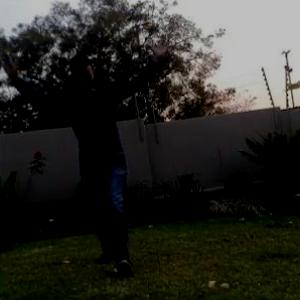takeoff: (1, 40, 169, 256)
